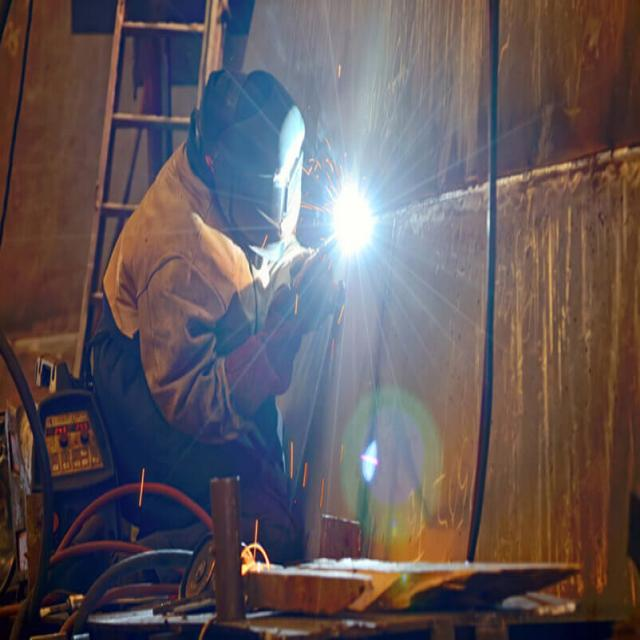welding: (328, 175, 379, 255)
